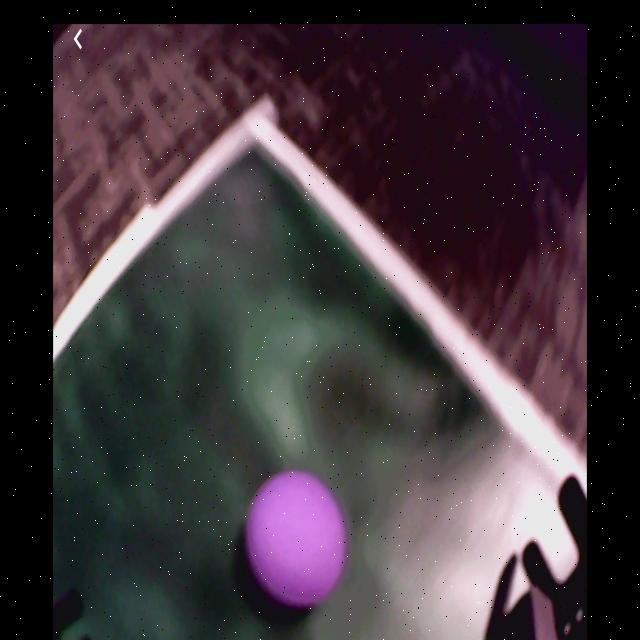ball: (245, 470, 349, 607)
